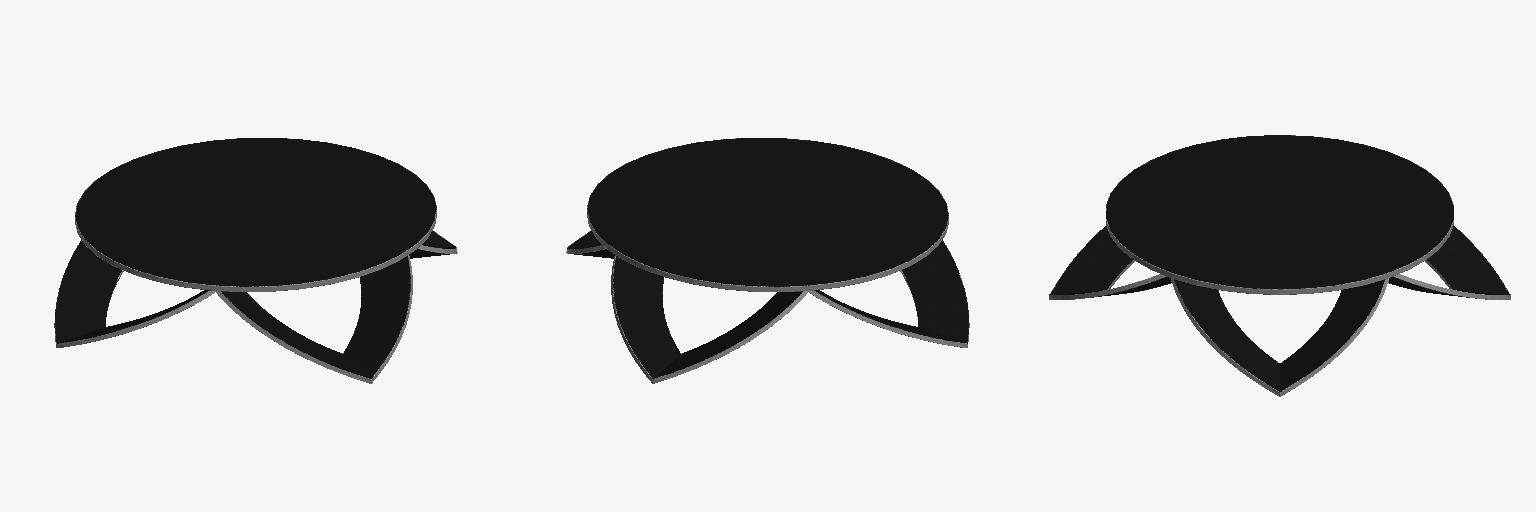
The picture shows the model from 3 angles: view 1: azimuth 30°, elevation 25°; view 2: azimuth 150°, elevation 25°; view 3: azimuth 270°, elevation 25°; orthographic projection.
Parts seen in each view (by area): view 1: stage_petal; view 2: stage_petal; view 3: stage_petal.
Boxes of the visible parts, x1=… form: stage_petal: x1=54, y1=138, x2=457, y2=383; stage_petal: x1=566, y1=138, x2=969, y2=383; stage_petal: x1=1049, y1=135, x2=1510, y2=396.
Size of the model in its own units: 74.26 by 15.54 by 74.26.
1 materials, 1 textured.